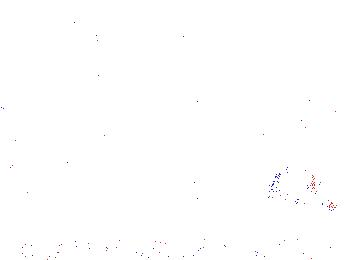flame jellyfish: (268, 164, 337, 217), (149, 166, 209, 217), (286, 62, 324, 132)
